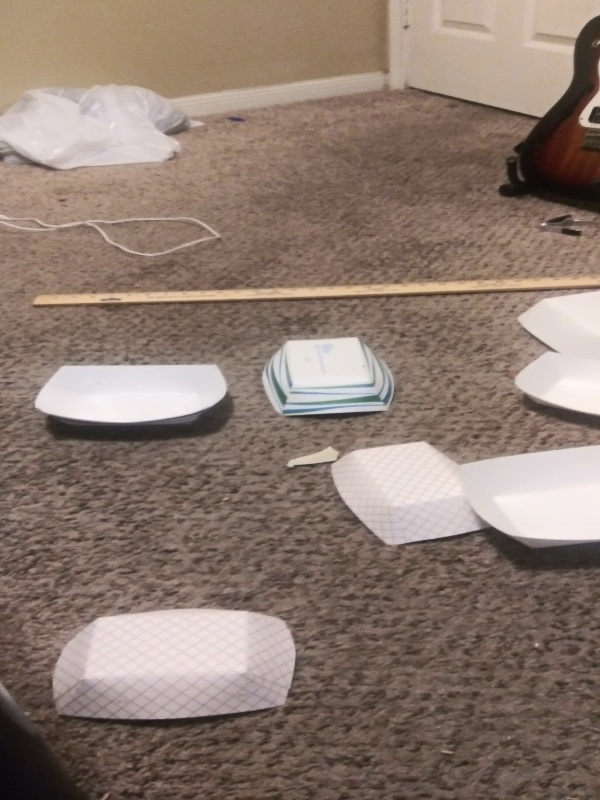plate: (48, 606, 300, 730), (327, 438, 490, 551), (452, 441, 600, 561), (31, 360, 228, 440), (257, 335, 397, 425), (509, 349, 600, 430), (517, 291, 600, 351)
